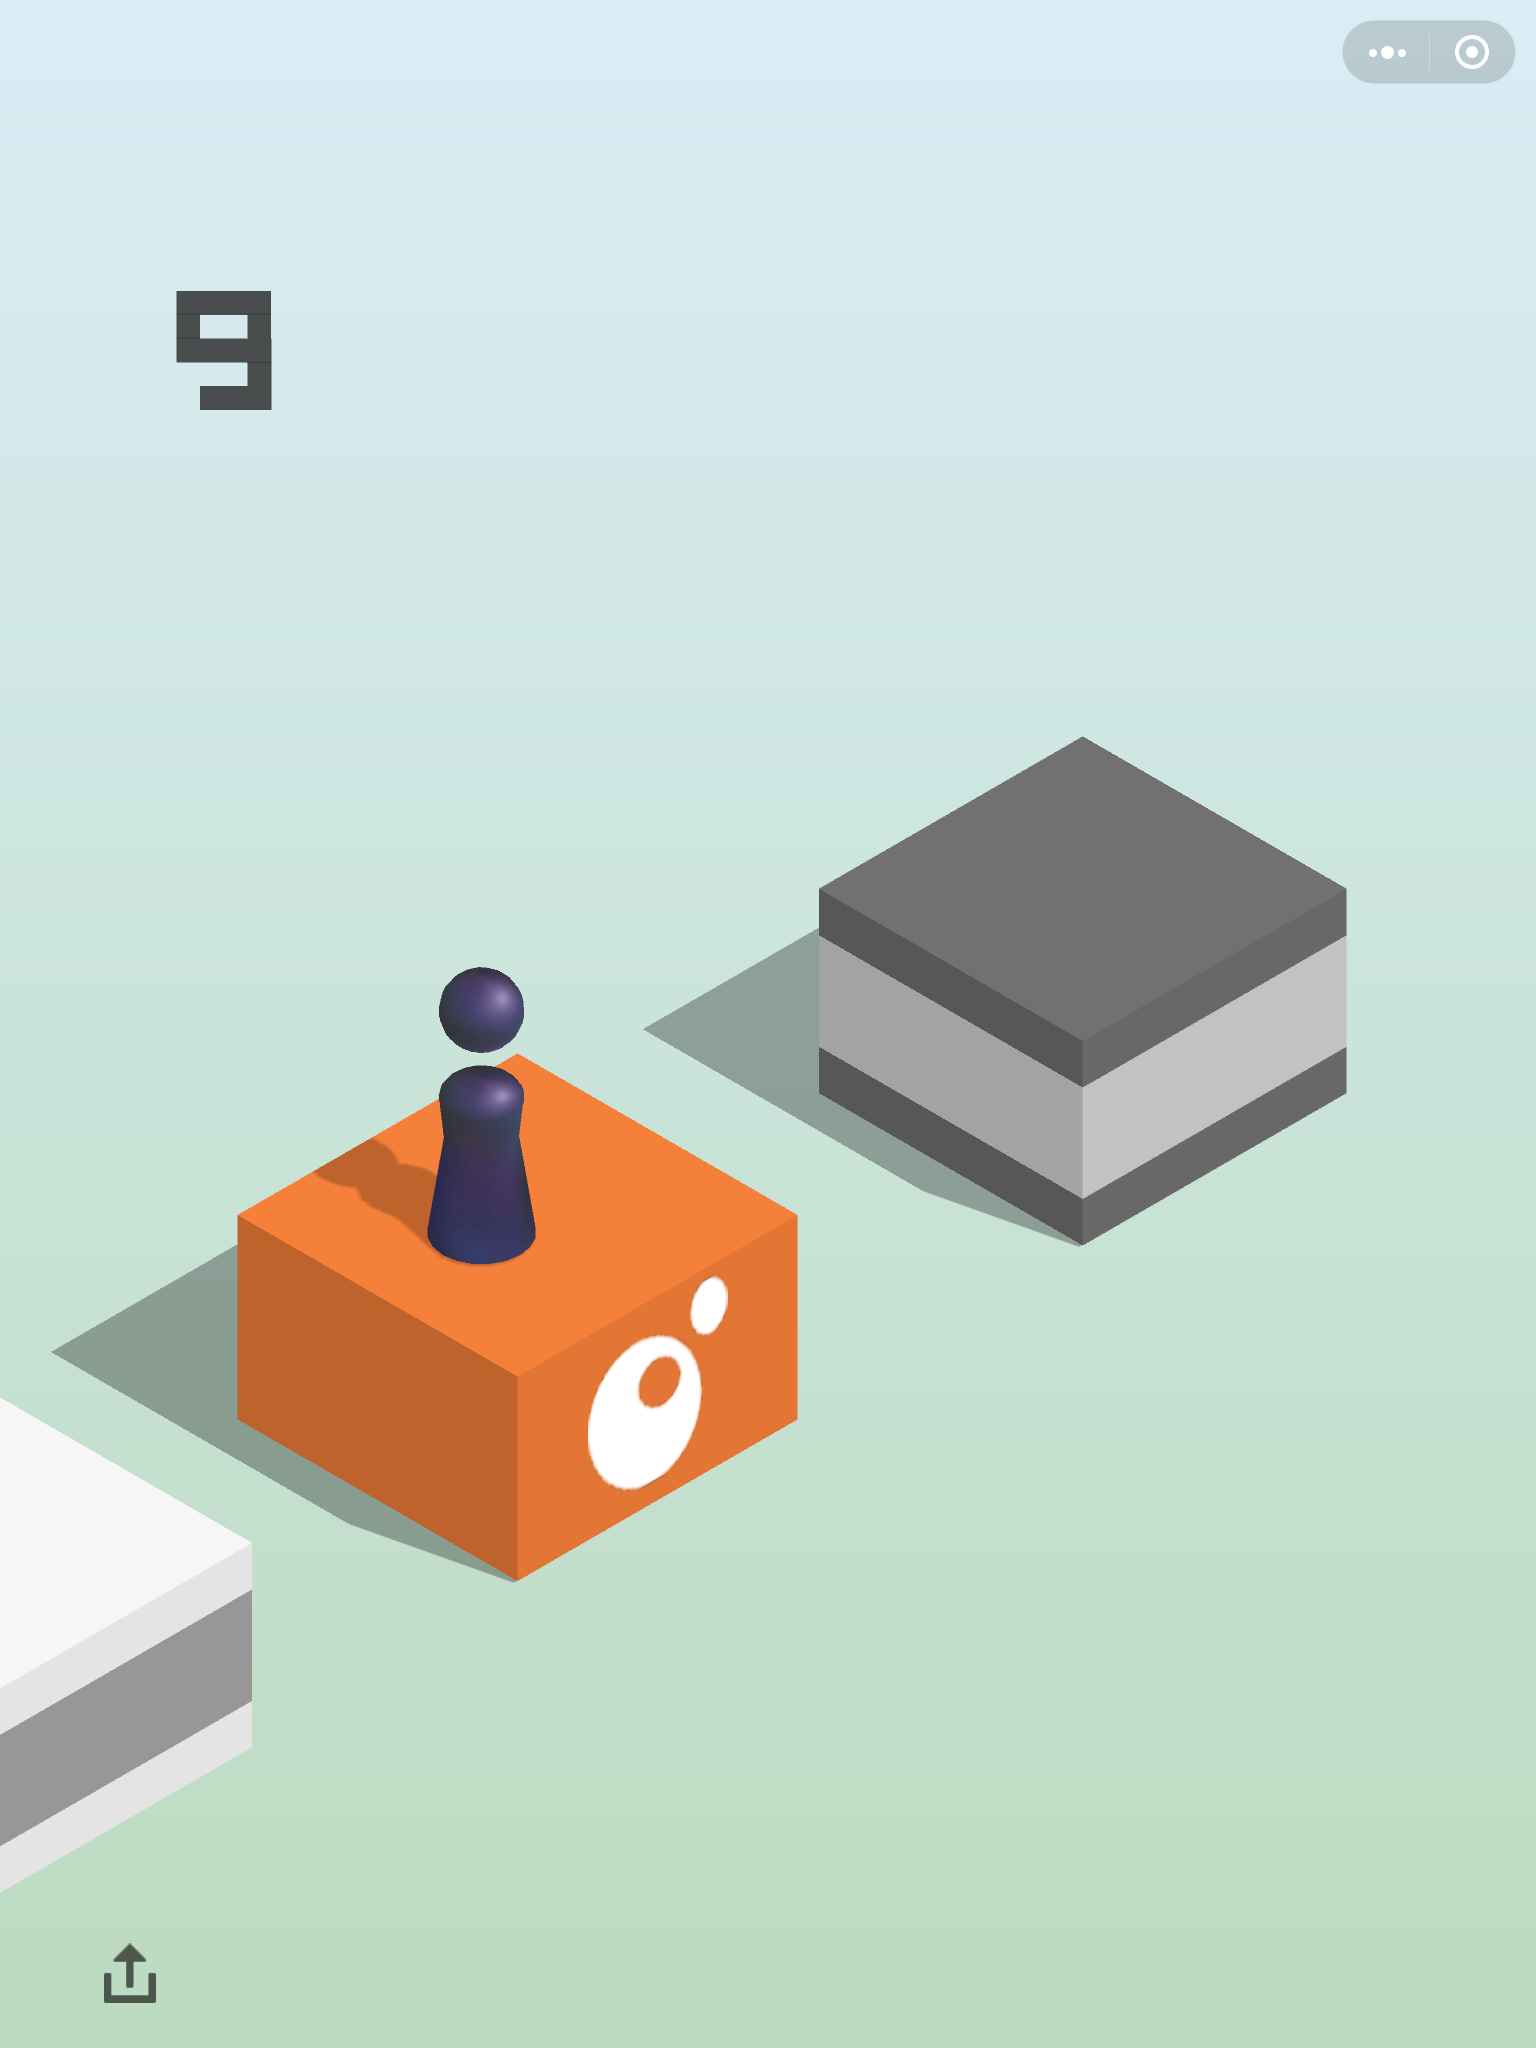f: (232, 1042, 807, 1593), (810, 727, 1359, 1255), (2, 1379, 261, 1896)
r: (423, 956, 537, 1277)
